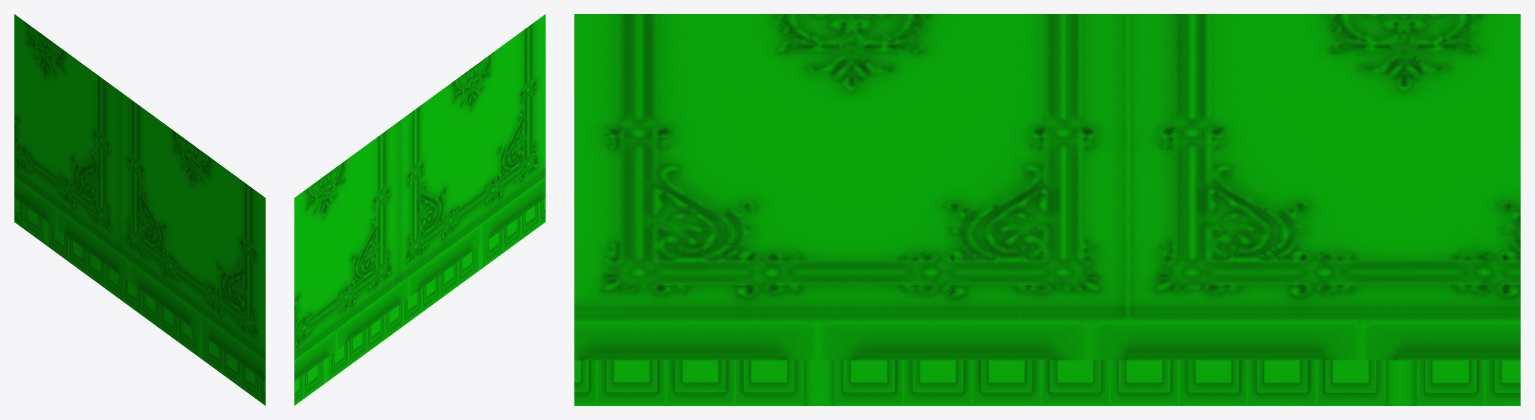
3 renders of one model, left to right at view 1: azimuth 30°, elevation 25°; view 2: azimuth 150°, elevation 25°; view 3: azimuth 270°, elevation 25°, orthographic. The views are drawn at different scales.
Parts seen in each view (by area): view 1: 복도벽 4; view 2: 복도벽 4; view 3: 복도벽 4.
Boxes of the visible parts, <box> form: 복도벽 4: <box>14,14,265,405</box>; 복도벽 4: <box>294,14,545,405</box>; 복도벽 4: <box>574,14,1520,405</box>.
Size of the model in its own units: 0 by 198 by 433.
